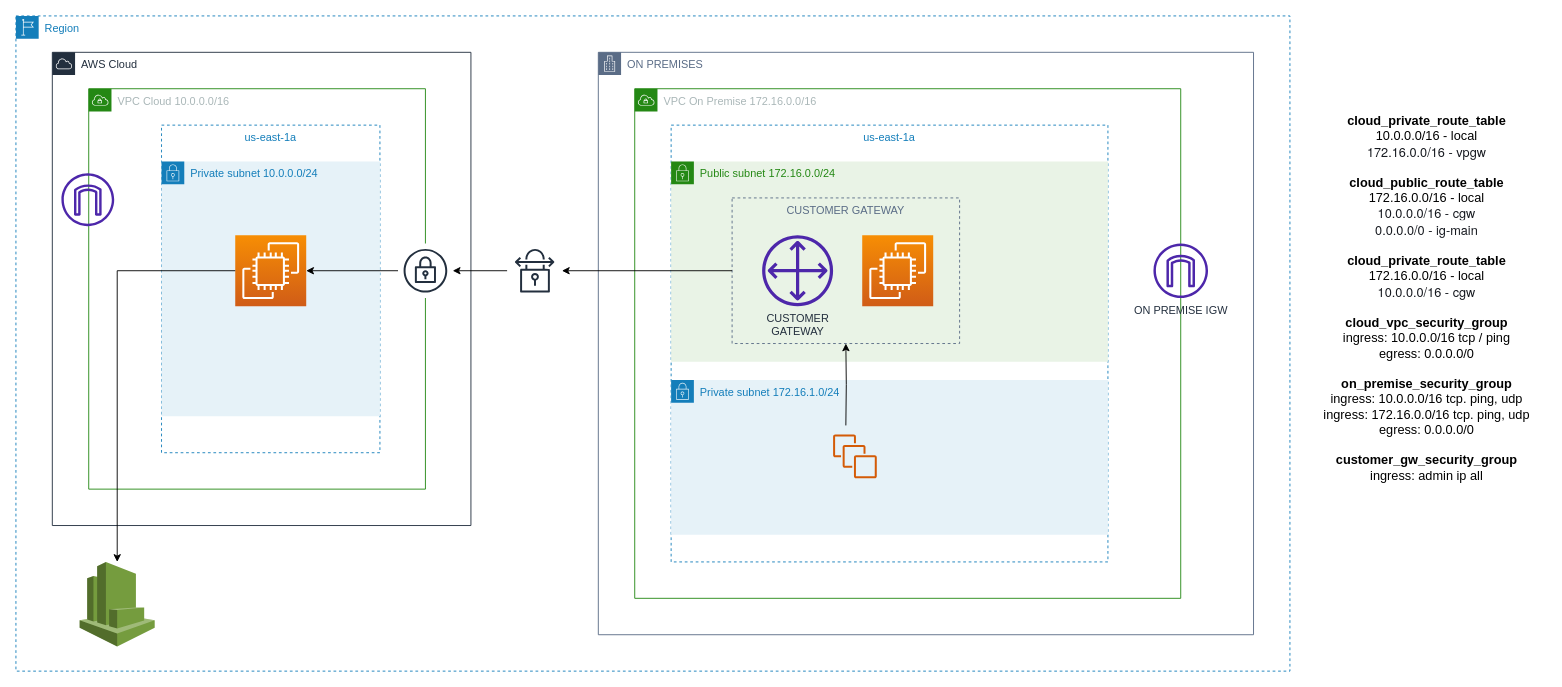
The diagram is 1562 pixels wide and 687 high, and some of its shapes have lost their labels. Each missing label, with the centre of its shape:
CLOUD IGW: [87,199]
LOGSTASH: [270,270]
OPENSWAN: [897,270]
SNMP AGENTS: [854,456]
SNMP_MONITORING: [117,604]
VPN Connection: [534,270]
VPN Gateway: [425,270]
